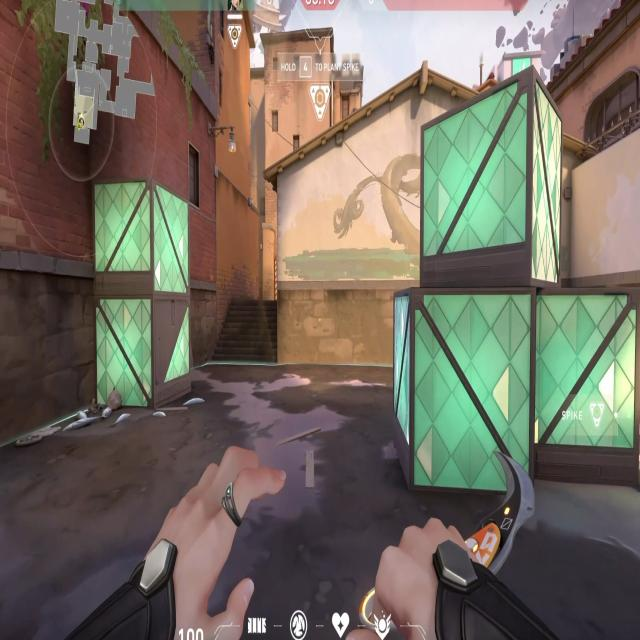B_Site_Box: (398, 106, 640, 512)
